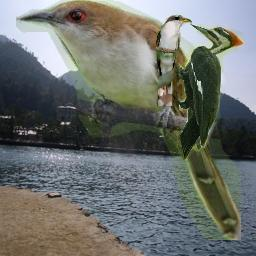Cuckoo: (16, 0, 241, 240), (155, 14, 192, 106)
Woodpecker: (175, 24, 244, 160)
